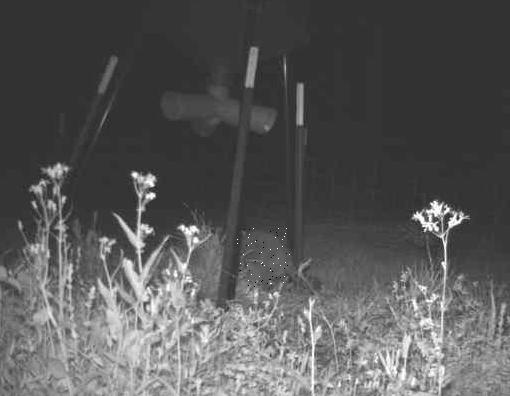Raccoon: (236, 229, 293, 288)
